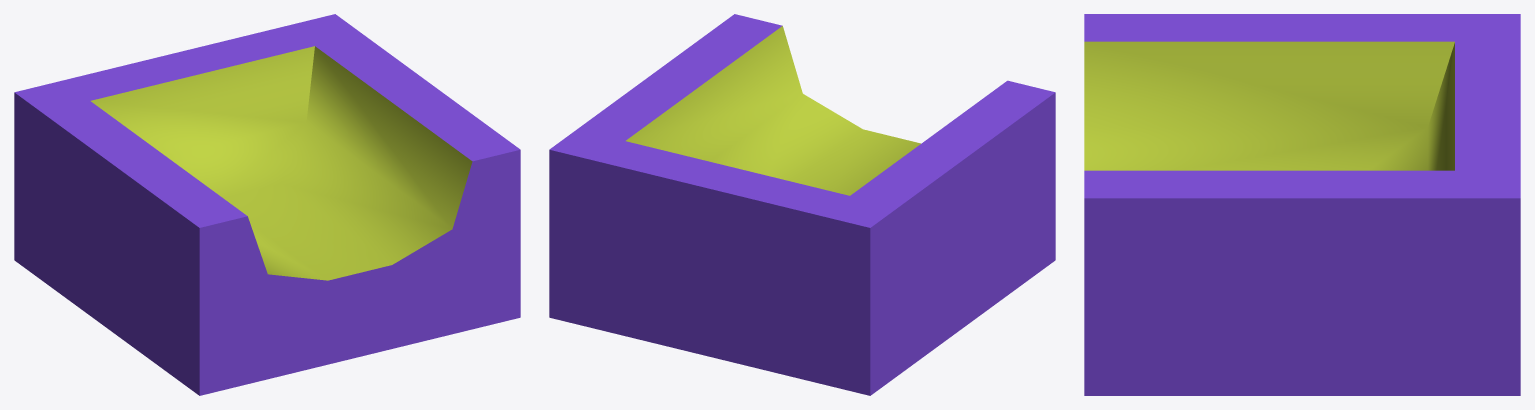
Rendered from end_square-col.dae.
The picture shows the model from 3 angles, left to right: view 1: azimuth 30°, elevation 25°; view 2: azimuth 150°, elevation 25°; view 3: azimuth 270°, elevation 25°; orthographic projection. The views are drawn at different scales.
Parts seen in each view (by area): view 1: end_square-col; view 2: end_square-col; view 3: end_square-col.
Boxes of the visible parts, x1,y1,x2,y2 form: end_square-col: (14,14,520,395); end_square-col: (549,14,1055,395); end_square-col: (1084,14,1520,395).
Size of the model in its own units: 1 by 1 by 0.5.
